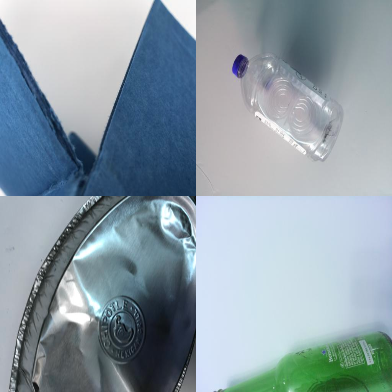cardboard: (1, 1, 196, 194)
glass: (211, 332, 392, 392)
metal: (10, 196, 195, 392)
plastic: (231, 52, 345, 161)
